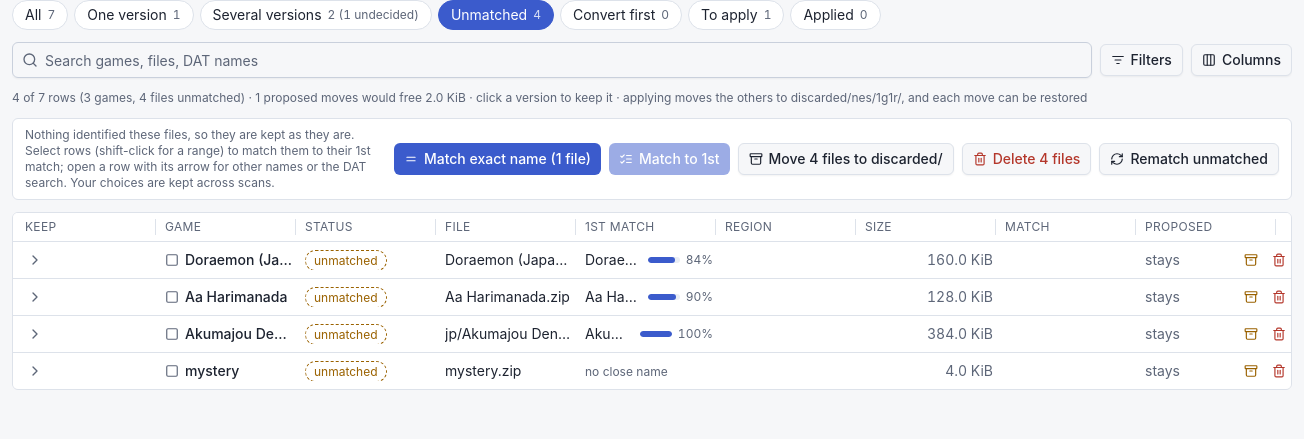
Test: match to 1st takes the selected rows only, and skips rows without a match
The image size is (1304, 439).
Expected: the button "Match to 1st" is disabled, 609,143 -> 730,175
Click the button with aria-label "Select Doraemon (Japan) (Rev 1)": (649, 260) 25,250 -> 1273,270
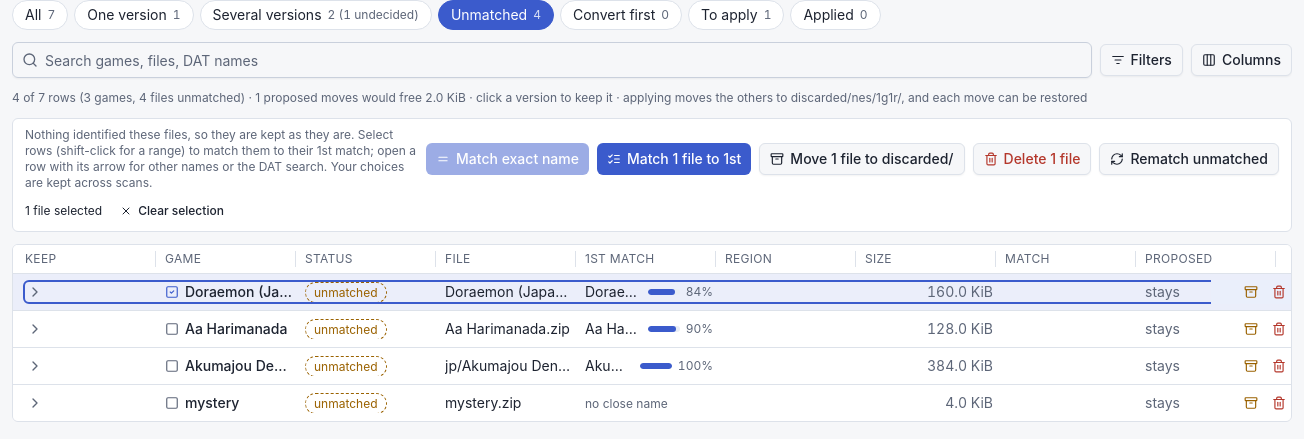
Click the button with aria-label "Select mystery": (649, 403) 25,393 -> 1273,413
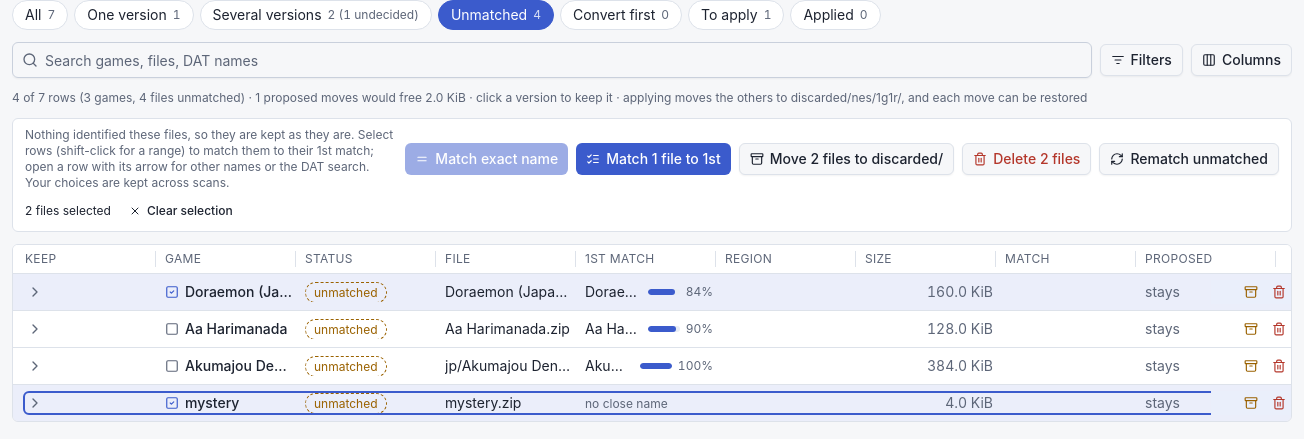
Result: the text "2 files selected Clear selection" is shown at 25,199 -> 243,223
Result: the button "Move 2 files to discarded/" is shown at 739,143 -> 954,175
Click the button "Match 1 file to 1st": (653, 159) 576,143 -> 731,175
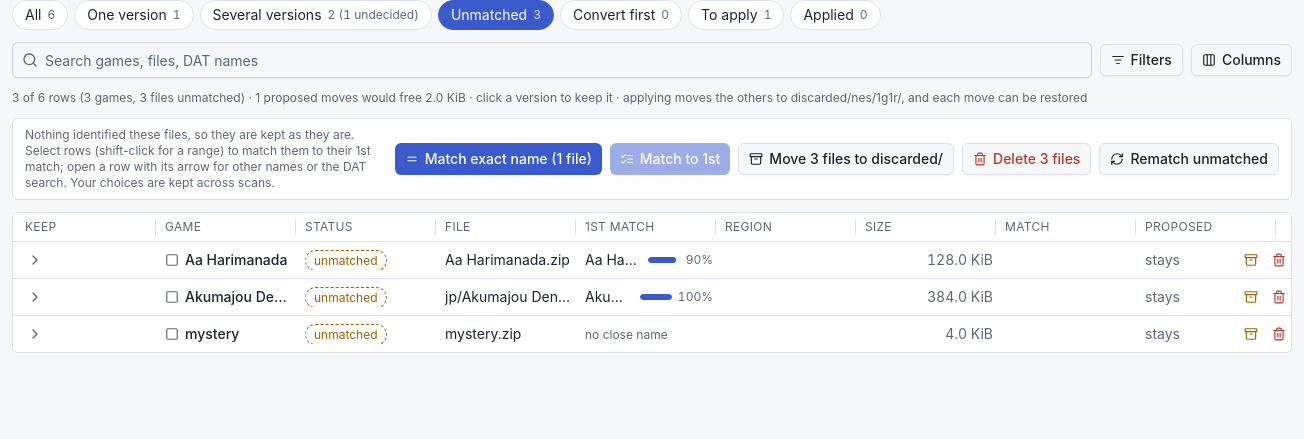
Result: the text "selected" is gone
